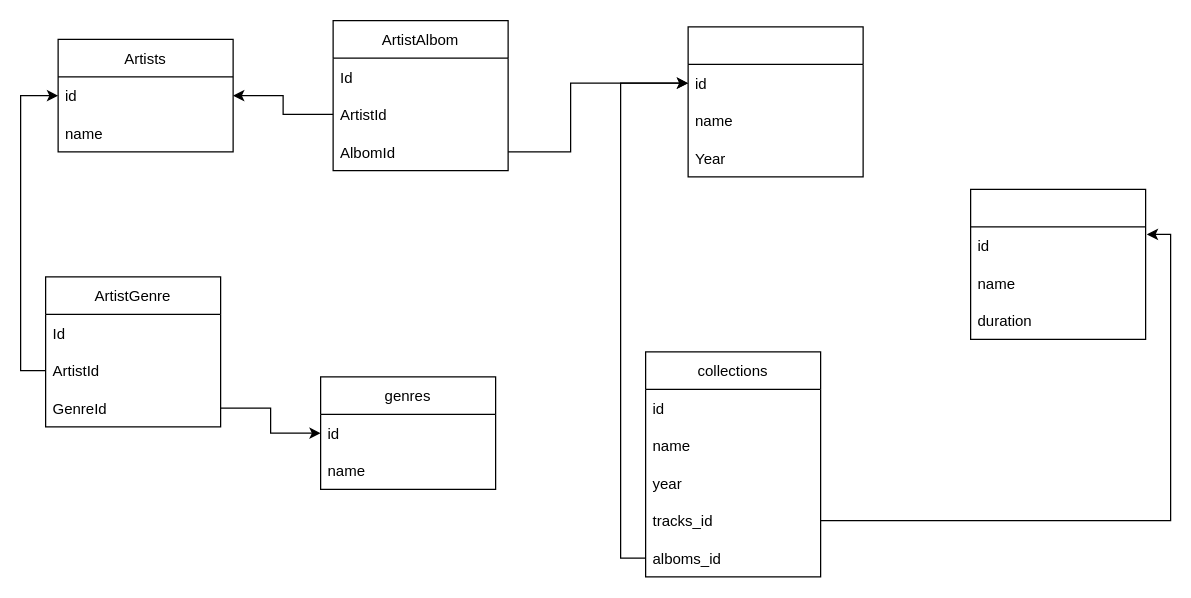
This 1191x598 diagram has some shape labels left out. Here are the shapes that lost their labels. From the top down, the box of each, then its label:
(687, 26, 863, 177): Alboms
(969, 188, 1146, 339): Tracks
